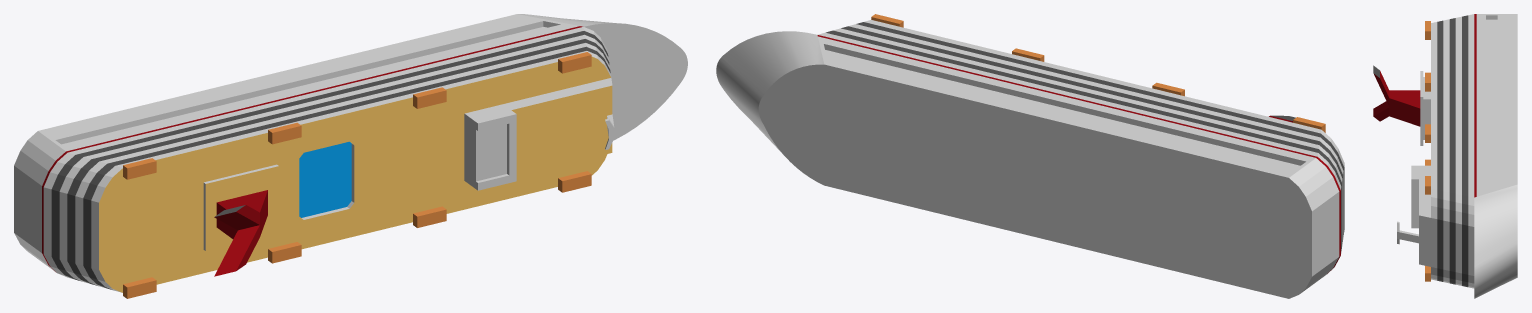
Rendered from cruise_ship.dae.
3 renders of one model, left to right at view 1: azimuth 30°, elevation 25°; view 2: azimuth 150°, elevation 25°; view 3: azimuth 270°, elevation 25°, orthographic. The views are drawn at different scales.
Visible parts, largest first — view 1: coords_ME_ID47_MA_material_23, coords_ME_ID3_MA_material_8, coords_ME_ID25_MA_material_8, coords_ME_ID39_MA_material_23, coords_ME_ID71_MA_material_8, coords_ME_ID11_MA_material, coords_ME_ID65_MA_material_8, coords_ME_ID19_MA_material, coords_ME_ID59_MA_material_8, coords_ME_ID53_MA_material, coords_ME_ID109_MA_material_6, coords_ME_ID177_MA_material_23 (+10 smaller); view 2: coords_ME_ID3_MA_material_8, coords_ME_ID71_MA_material_8, coords_ME_ID11_MA_material, coords_ME_ID65_MA_material_8, coords_ME_ID19_MA_material, coords_ME_ID53_MA_material, coords_ME_ID59_MA_material_8, coords_ME_ID25_MA_material_8, coords_ME_ID31_MA_material_7; view 3: coords_ME_ID3_MA_material_8, coords_ME_ID25_MA_material_8, coords_ME_ID71_MA_material_8, coords_ME_ID11_MA_material, coords_ME_ID65_MA_material_8, coords_ME_ID19_MA_material, coords_ME_ID59_MA_material_8, coords_ME_ID53_MA_material, coords_ME_ID103_MA_material_7, coords_ME_ID31_MA_material_7, coords_ME_ID123_MA_material_8, coords_ME_ID153_MA_material_8 (+4 smaller).
Boxes of the visible parts, x1,y1,x2,y2 form: coords_ME_ID47_MA_material_23: (99,56,610,292); coords_ME_ID3_MA_material_8: (14,14,687,279); coords_ME_ID25_MA_material_8: (91,51,614,292); coords_ME_ID39_MA_material_23: (511,85,612,175); coords_ME_ID71_MA_material_8: (55,21,560,145); coords_ME_ID11_MA_material: (51,31,608,281); coords_ME_ID65_MA_material_8: (59,34,608,283); coords_ME_ID19_MA_material: (67,39,609,285); coords_ME_ID59_MA_material_8: (75,43,609,287); coords_ME_ID53_MA_material: (83,46,610,290); coords_ME_ID109_MA_material_6: (299,141,351,217); coords_ME_ID177_MA_material_23: (205,166,278,250); coords_ME_ID3_MA_material_8: (716,31,1341,298); coords_ME_ID71_MA_material_8: (824,44,1305,167); coords_ME_ID11_MA_material: (826,30,1341,250); coords_ME_ID65_MA_material_8: (833,28,1342,246); coords_ME_ID19_MA_material: (841,26,1342,241); coords_ME_ID53_MA_material: (856,22,1344,234); coords_ME_ID59_MA_material_8: (848,24,1343,239); coords_ME_ID25_MA_material_8: (864,20,1344,229); coords_ME_ID31_MA_material_7: (817,35,1340,273); coords_ME_ID3_MA_material_8: (1468,14,1517,298); coords_ME_ID25_MA_material_8: (1397,22,1437,280); coords_ME_ID71_MA_material_8: (1486,15,1497,192); coords_ME_ID11_MA_material: (1462,15,1468,287); coords_ME_ID65_MA_material_8: (1455,16,1461,285); coords_ME_ID19_MA_material: (1449,18,1455,284); coords_ME_ID59_MA_material_8: (1443,19,1449,283); coords_ME_ID53_MA_material: (1437,20,1443,281); coords_ME_ID103_MA_material_7: (1373,71,1420,126); coords_ME_ID31_MA_material_7: (1474,14,1476,197); coords_ME_ID123_MA_material_8: (1423,77,1430,139); coords_ME_ID153_MA_material_8: (1420,71,1423,145).
Bounding box in the file's own units: 221 × 42.83 × 58.79.
